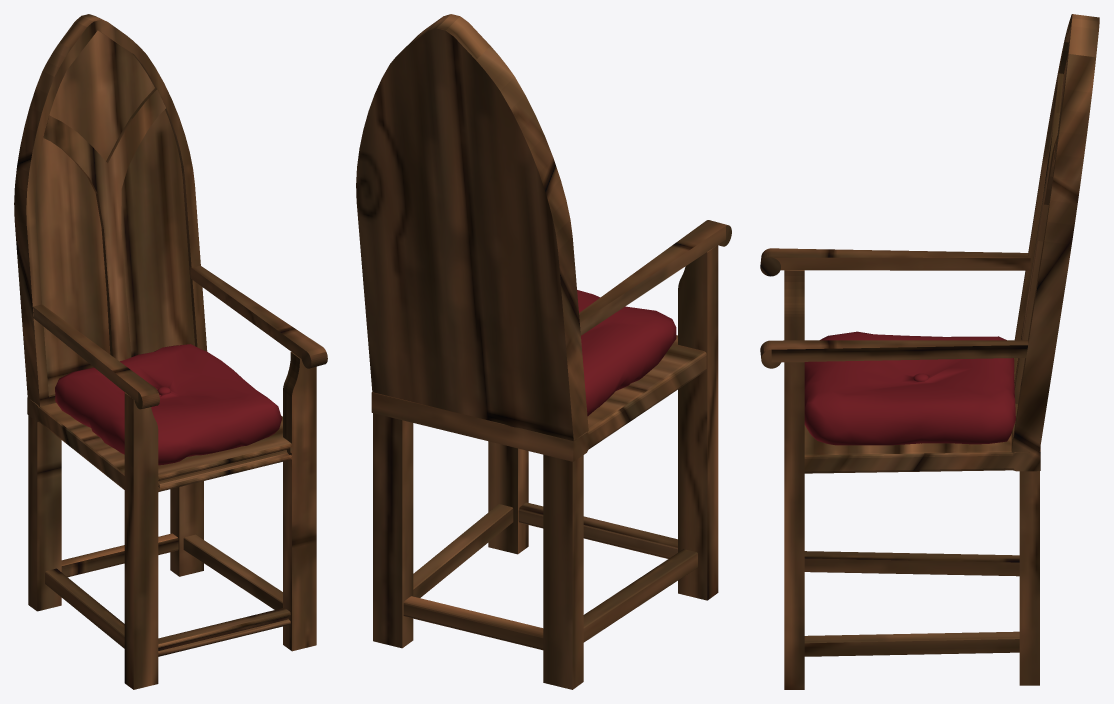
Rendered from Chair_joined.fbx.
3 renders of one model, left to right at view 1: azimuth 30°, elevation 25°; view 2: azimuth 150°, elevation 25°; view 3: azimuth 270°, elevation 25°, orthographic. The views are drawn at different scales.
Visible parts, largest first — view 1: Seat, Cushion; view 2: Seat, Cushion; view 3: Seat, Cushion.
Part boxes in pixels (left/top/right/bottom): Seat: left=14, top=14, right=327, bottom=689; Cushion: left=55, top=344, right=281, bottom=465; Seat: left=356, top=14, right=731, bottom=689; Cushion: left=577, top=290, right=676, bottom=416; Seat: left=760, top=14, right=1099, bottom=689; Cushion: left=804, top=331, right=1015, bottom=445.
Bounding box in the file's own units: 46.24 × 132 × 65.15.
